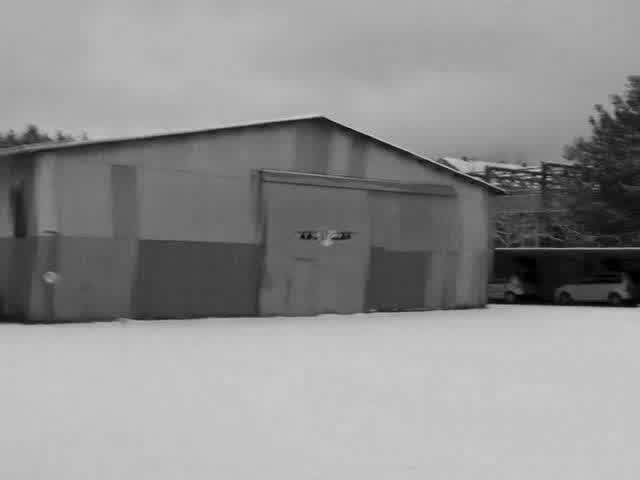drone: (298, 225, 358, 252)
